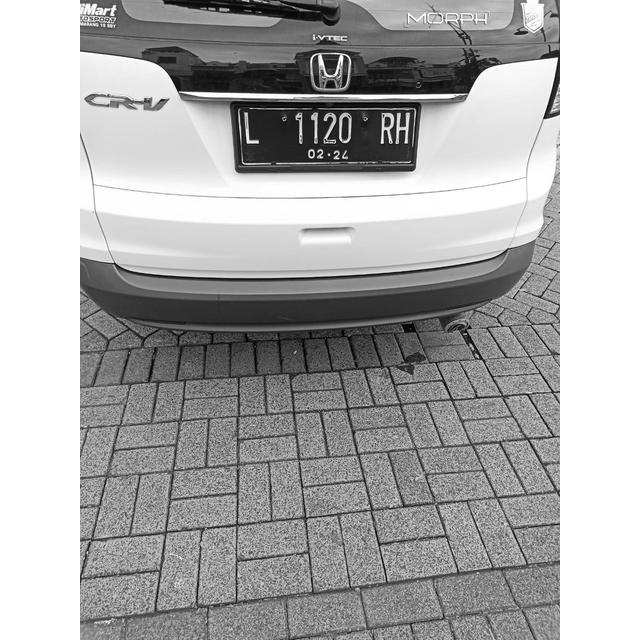license: (241, 110, 411, 161)
